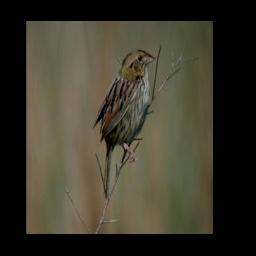Sparrow: (93, 48, 157, 199)
